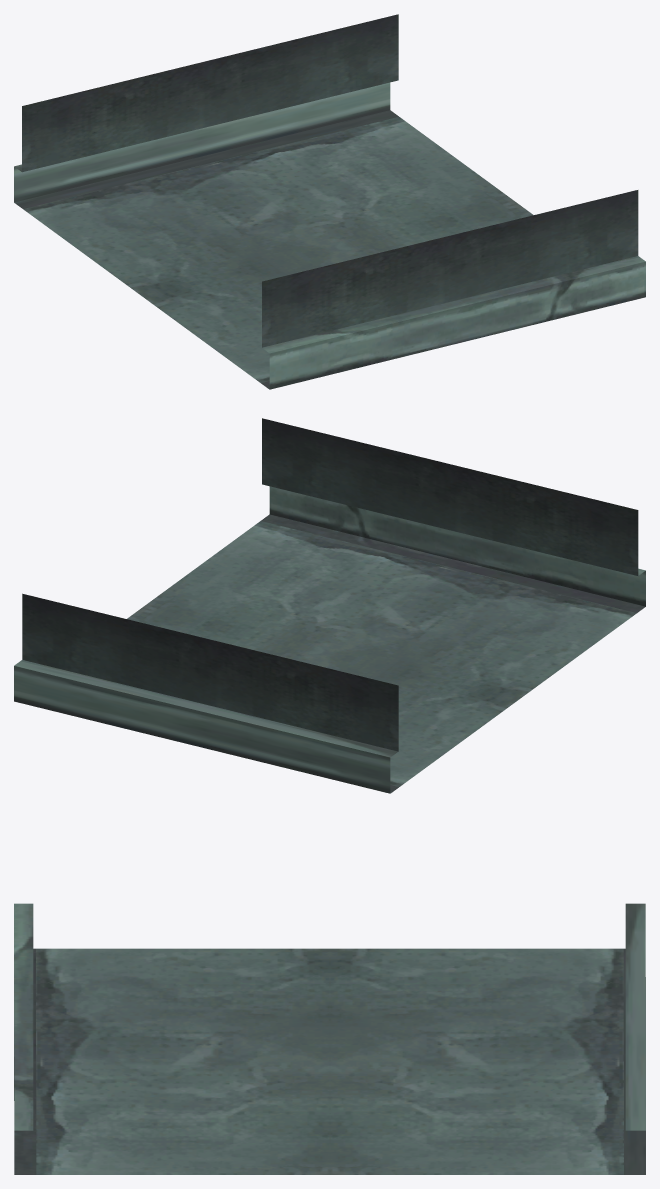
File: crypt_bridgesmall_straight_01.fbx
3 renders of one model, top to bottom at view 1: azimuth 30°, elevation 25°; view 2: azimuth 150°, elevation 25°; view 3: azimuth 270°, elevation 25°, orthographic. The views are drawn at different scales.
Parts seen in each view (by area): view 1: crypt_tileset/crypt_wall03; view 2: crypt_tileset/crypt_wall03; view 3: crypt_tileset/crypt_wall03.
Part boxes in pixels (<box>): crypt_tileset/crypt_wall03: <box>14,14,645,389</box>; crypt_tileset/crypt_wall03: <box>14,418,645,793</box>; crypt_tileset/crypt_wall03: <box>14,903,645,1174</box>.
Size of the model in its own units: 4.02 by 1.04 by 4.73.
